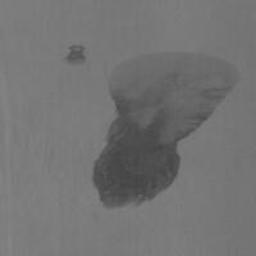Oil spot: (91, 51, 241, 209), (63, 44, 87, 67)
